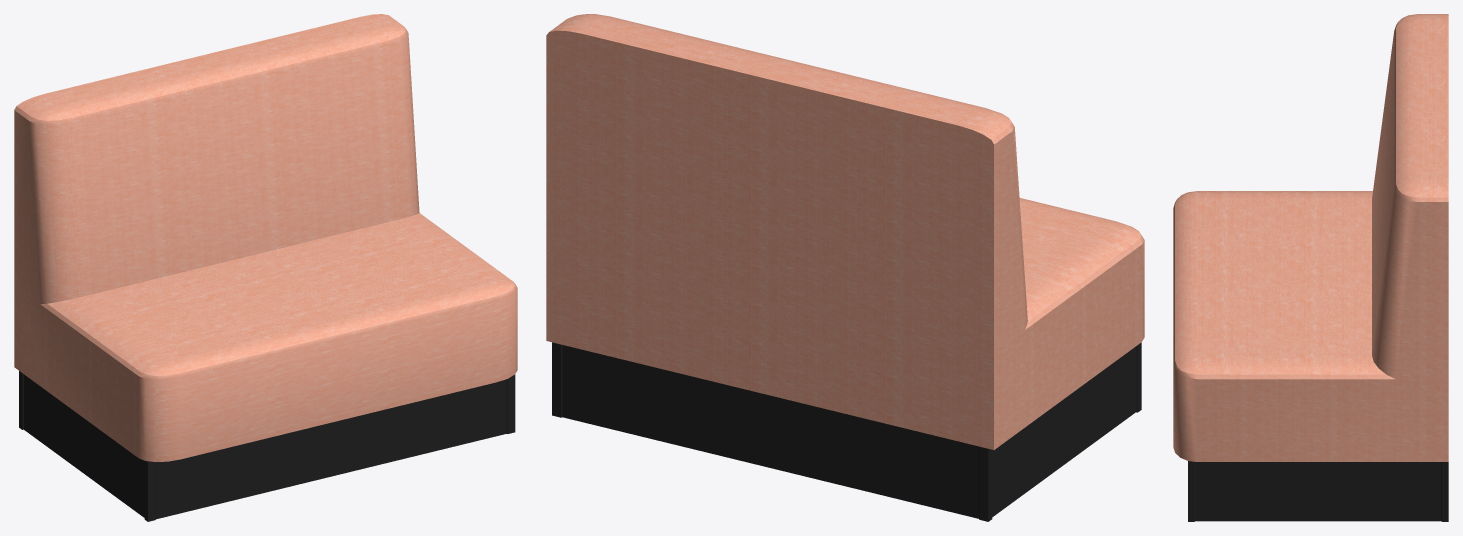
File: Silla grande.fbx
3 views of the same model, side by side, from view 1: azimuth 30°, elevation 25°; view 2: azimuth 150°, elevation 25°; view 3: azimuth 270°, elevation 25° (orthographic). The views are drawn at different scales.
Visible parts, largest first — view 1: Silla; view 2: Silla; view 3: Silla.
Boxes of the visible parts, x1,y1,x2,y2 form: Silla: (14, 14, 517, 521); Silla: (546, 14, 1144, 521); Silla: (1173, 14, 1448, 521).
Bounding box in the file's own units: 726 × 603 × 454.
